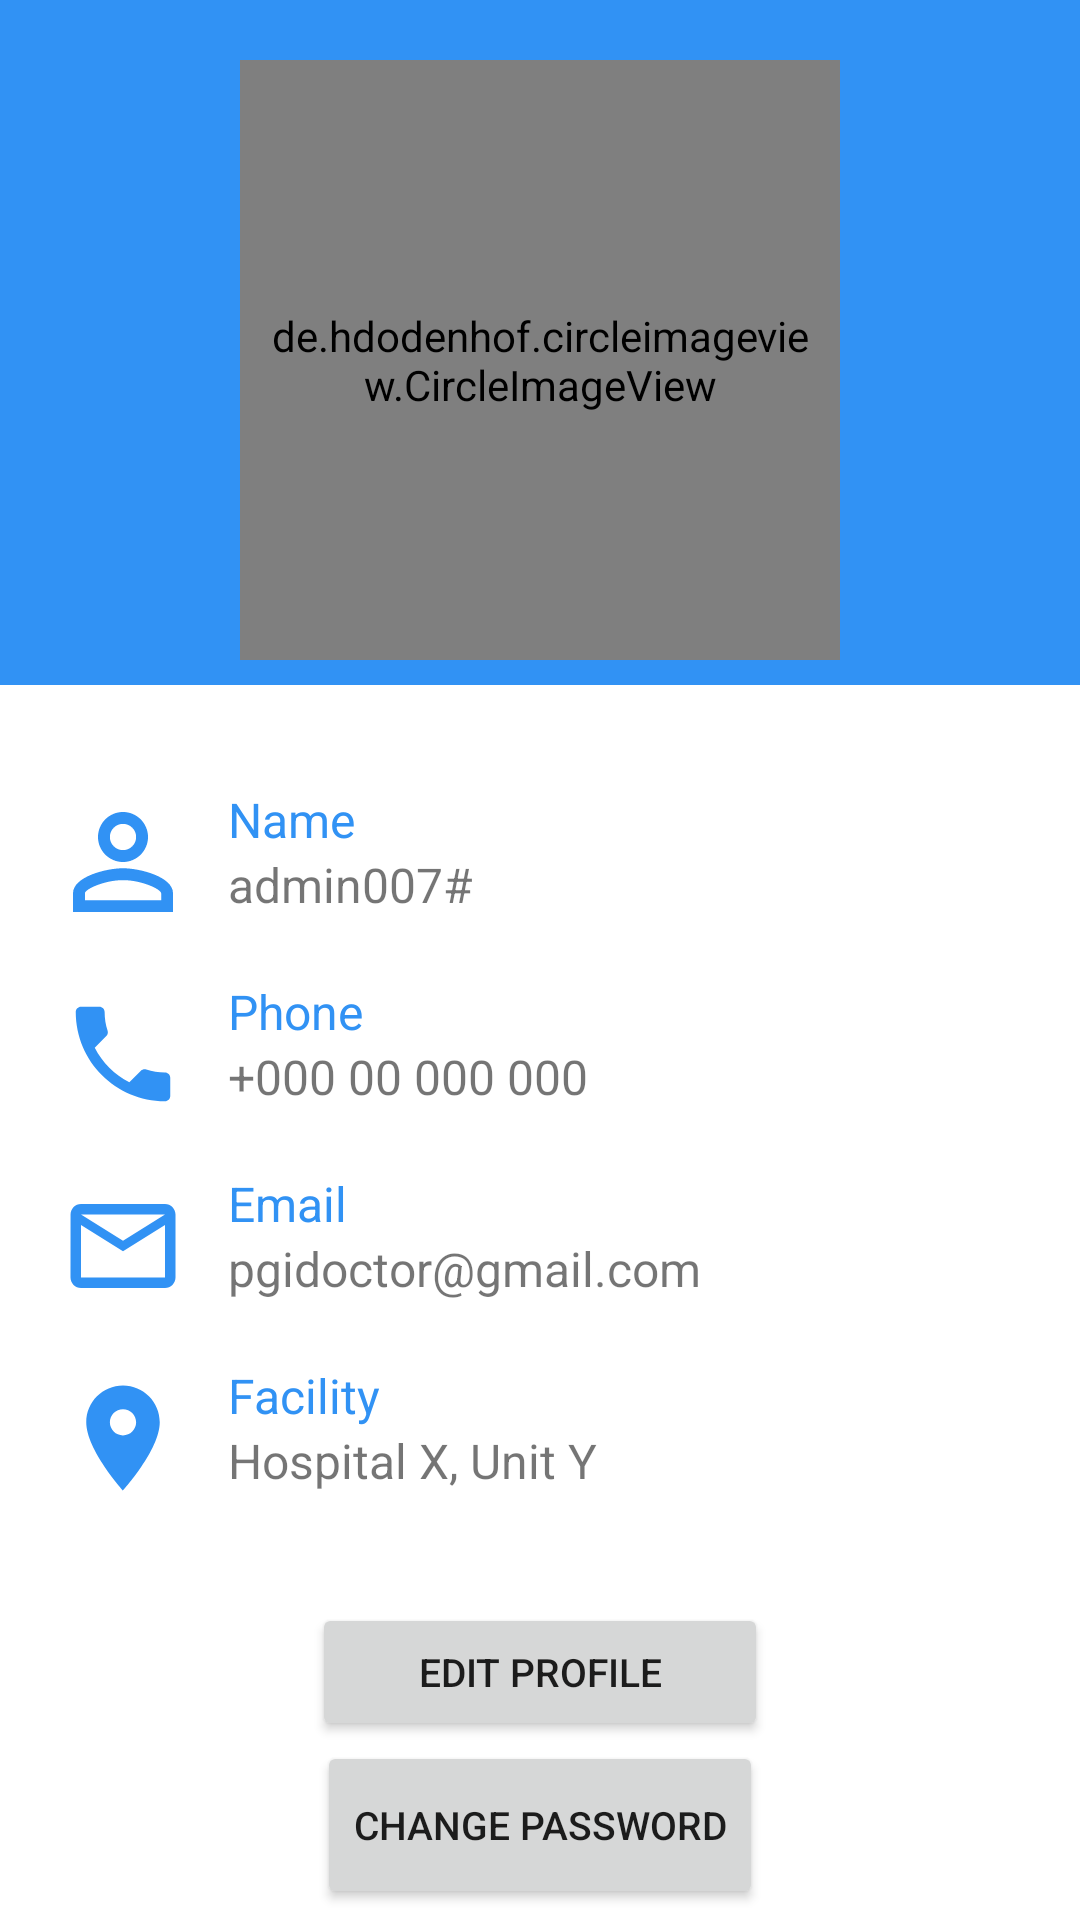

Screen size 1080*1920. Icon name, then its center in pixels as (x=x, y=y):
address: (x=123, y=1438)
profile: (x=123, y=862)
